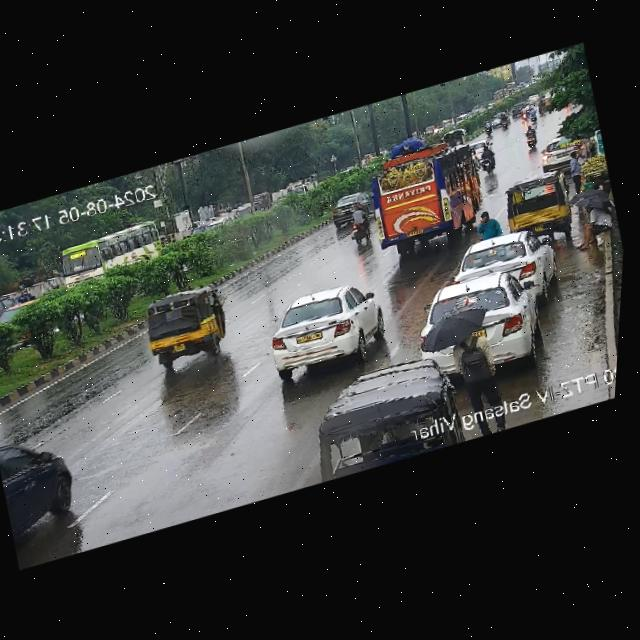bus: (357, 134, 492, 254), (50, 217, 175, 293)
car: (297, 344, 469, 483), (258, 277, 394, 384), (408, 262, 547, 348), (451, 221, 562, 308), (133, 279, 235, 368), (0, 435, 85, 535), (493, 168, 577, 239), (535, 132, 584, 174), (326, 191, 373, 228), (0, 293, 20, 329)
motorcycle: (342, 200, 379, 248), (474, 142, 502, 176), (522, 123, 541, 151), (497, 110, 512, 131), (527, 106, 540, 124), (483, 119, 494, 137)
person: (427, 296, 517, 439), (565, 201, 616, 254), (562, 147, 589, 197), (472, 208, 500, 242)
truck: (439, 127, 470, 149)
